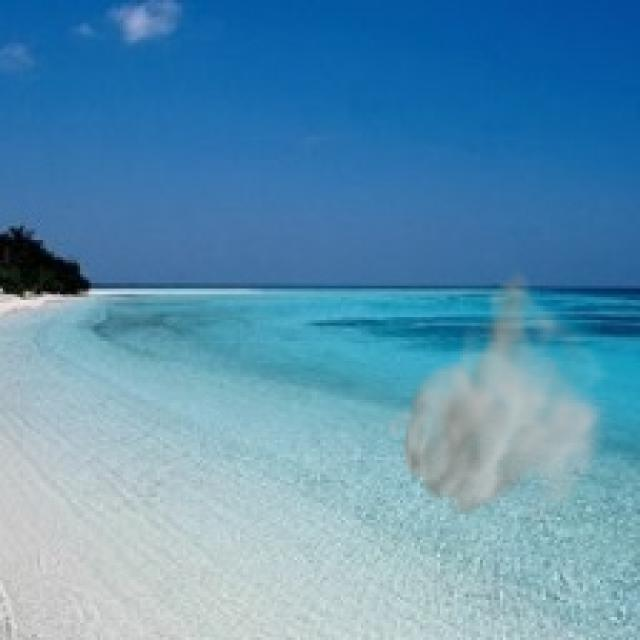Smoke: (383, 263, 614, 540)
